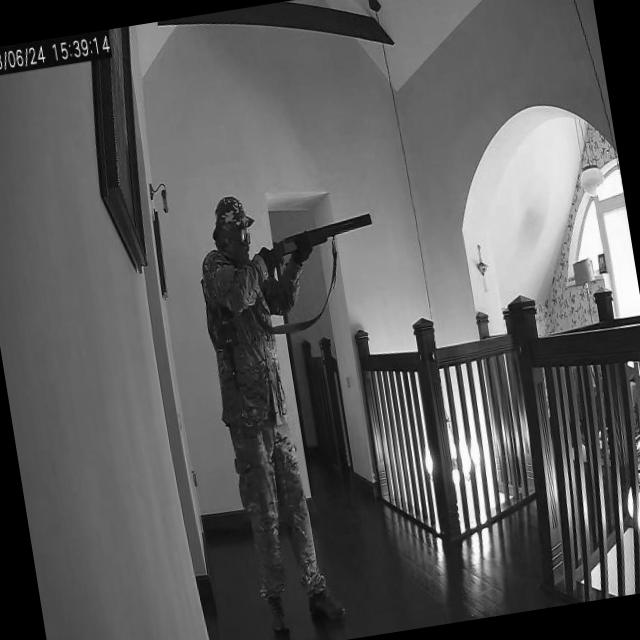gun: (254, 210, 379, 260)
person with a gun: (188, 172, 438, 638)
